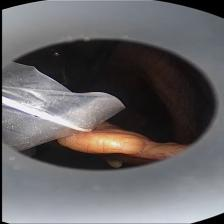Specimen Bag: (0, 58, 124, 152)
